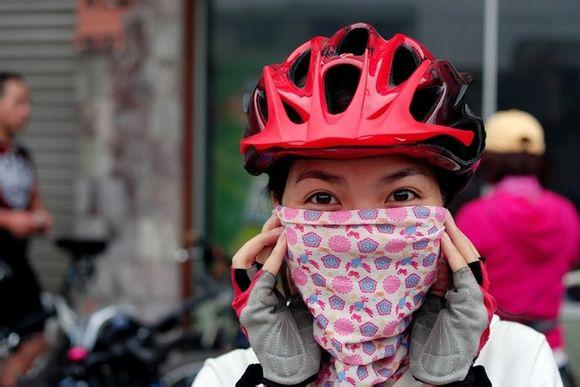OK: (292, 168, 439, 331)
